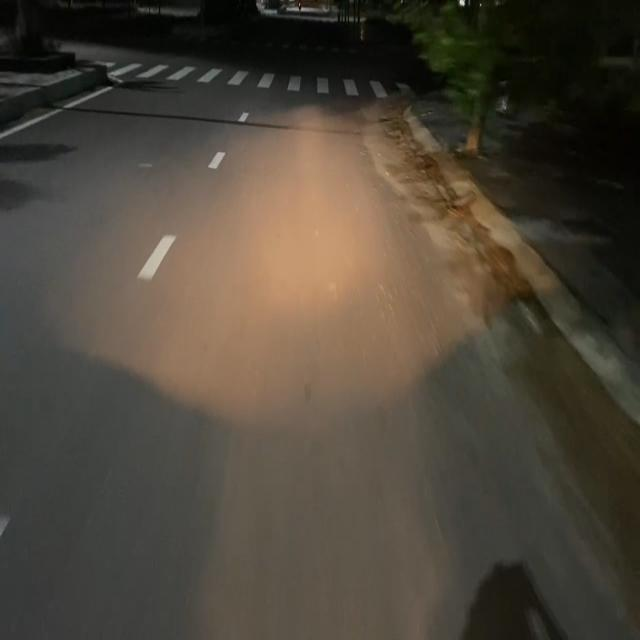walk-crossing: (107, 62, 393, 99)
